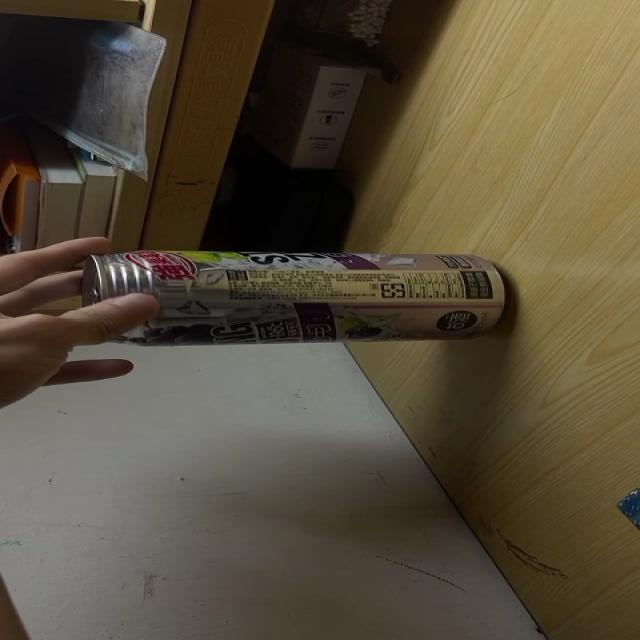Liquor: (71, 248, 512, 349)
